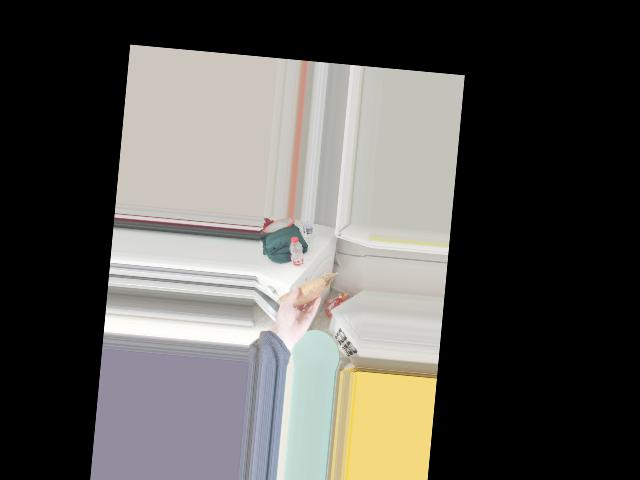sweet_potato: (287, 275, 322, 308)
